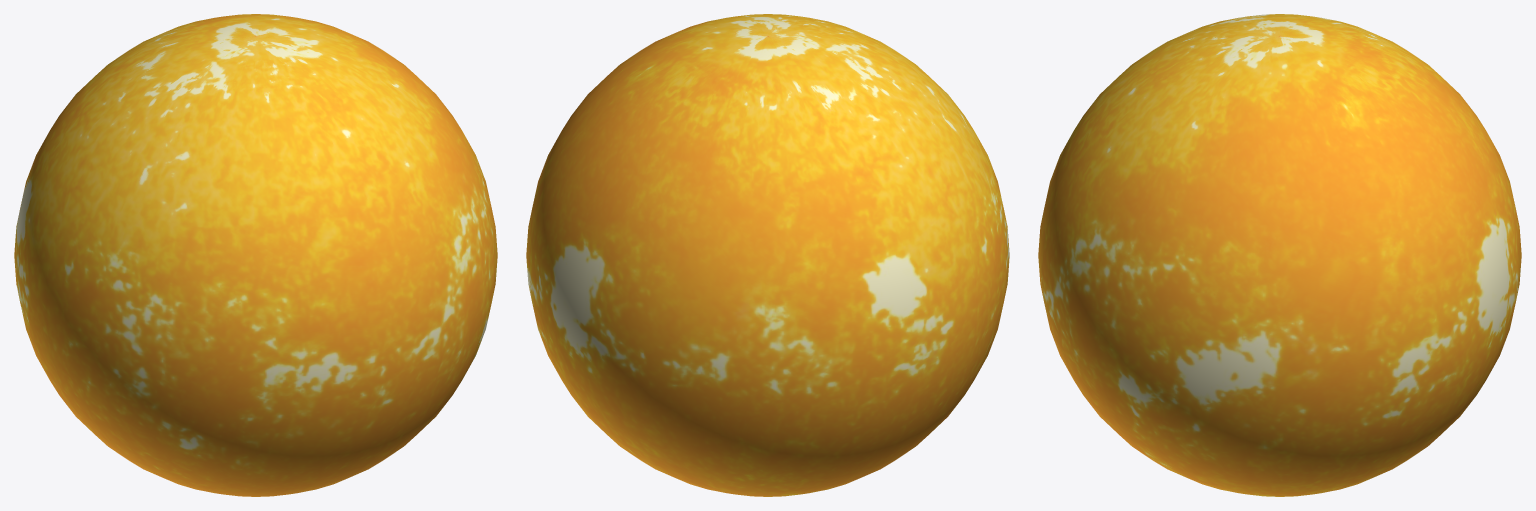
The model's file is sun.obj.
3 views of the same model, side by side, from view 1: azimuth 30°, elevation 25°; view 2: azimuth 150°, elevation 25°; view 3: azimuth 270°, elevation 25° (orthographic).
Parts seen in each view (by area): view 1: sun_Sphere.002; view 2: sun_Sphere.002; view 3: sun_Sphere.002.
Boxes of the visible parts, x1,y1,x2,y2 form: sun_Sphere.002: [14, 14, 497, 496]; sun_Sphere.002: [526, 14, 1009, 496]; sun_Sphere.002: [1038, 14, 1521, 496].
Size of the model in its own units: 4.33 by 4.33 by 4.33.
1 material, 1 textured.
